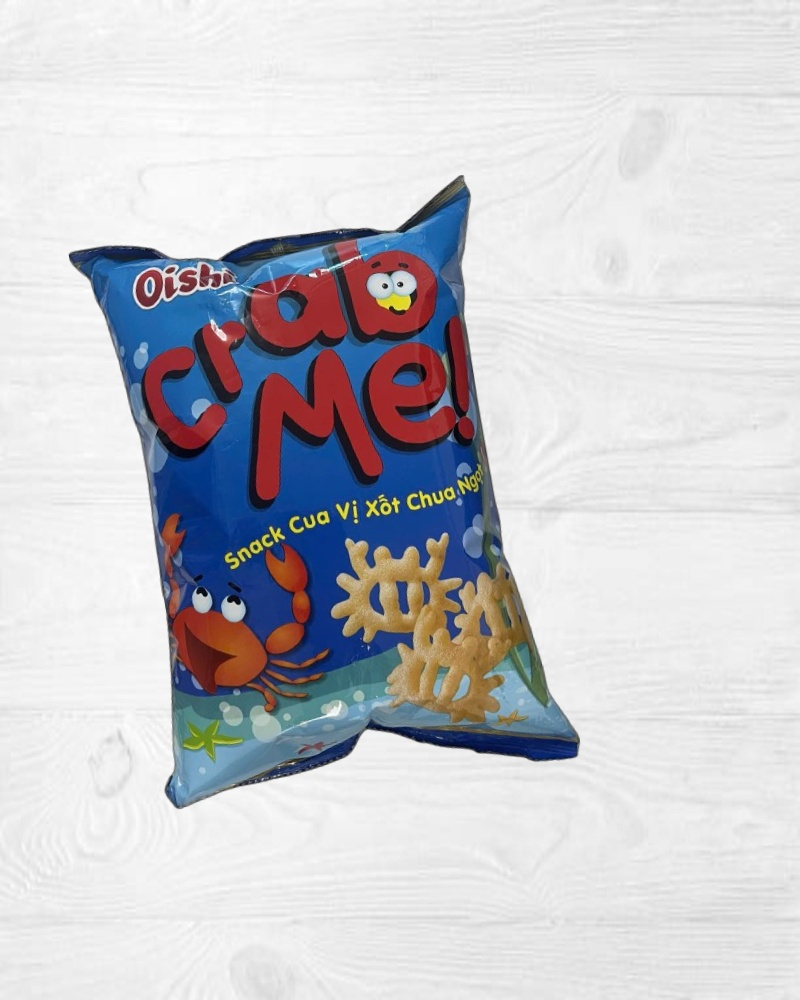Snack chay: (68, 173, 583, 831)
